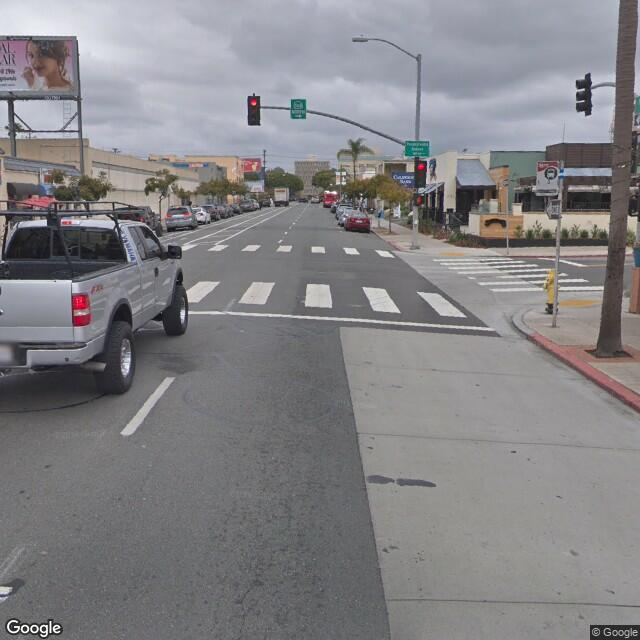road line: (103, 367, 187, 451)
